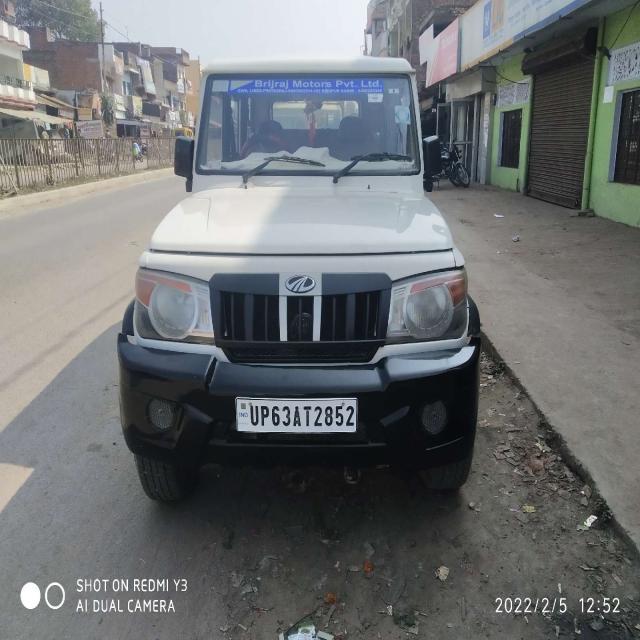light_vehicle: (115, 65, 473, 476)
